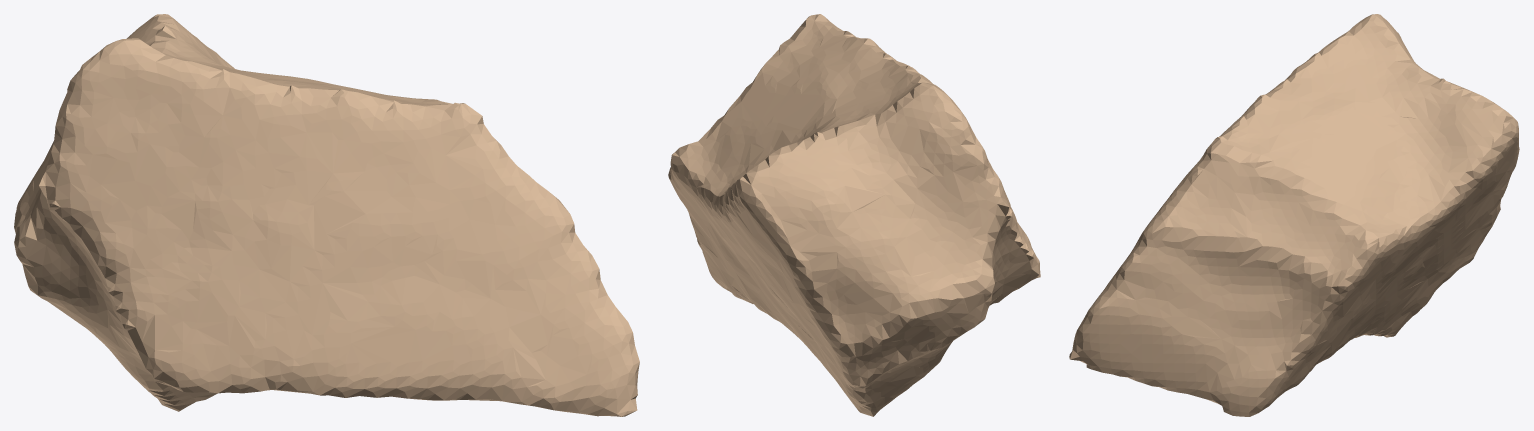
The model's file is Model_10034_LH__Area_6_of_cortex__dorsorostral_part_(A6DR).obj.
3 views of the same model, side by side, from view 1: azimuth 30°, elevation 25°; view 2: azimuth 150°, elevation 25°; view 3: azimuth 270°, elevation 25° (orthographic). The views are drawn at different scales.
Size of the model in its own units: 3.5 by 3.08 by 4.2.
